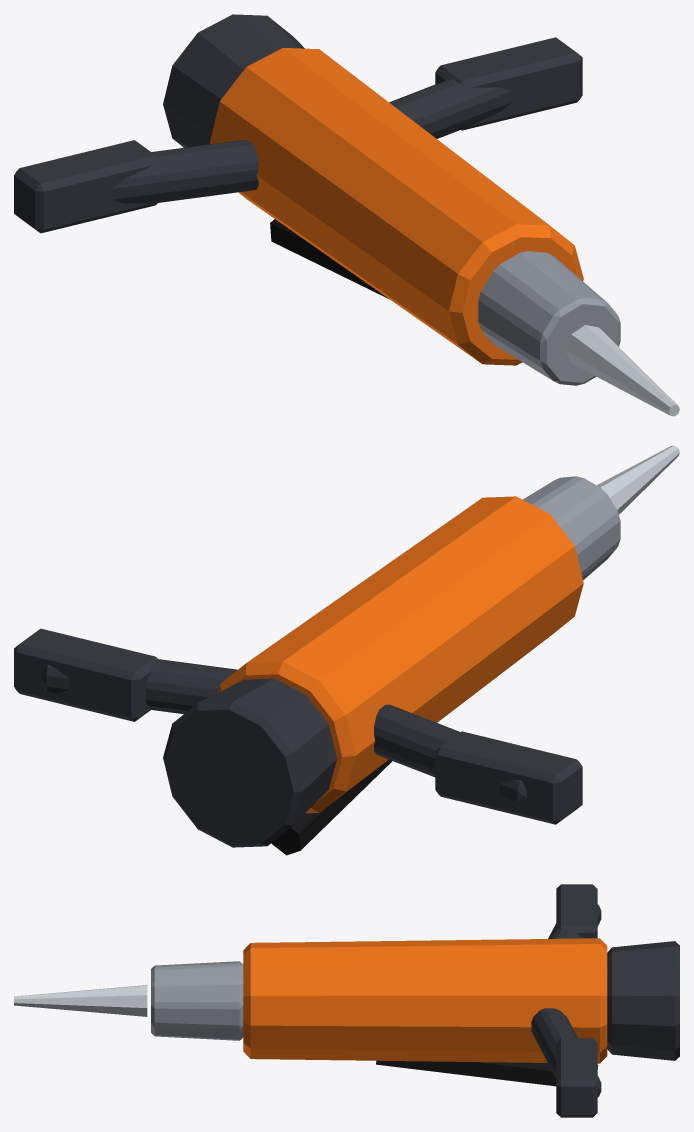
File: Jackhammer.glb
3 views of the same model, one above another, from view 1: azimuth 30°, elevation 25°; view 2: azimuth 150°, elevation 25°; view 3: azimuth 270°, elevation 25° (orthographic). The views are drawn at different scales.
Visible parts, largest first — view 1: Body, Bit; view 2: Body, Bit; view 3: Body, Bit.
Boxes of the visible parts, x1,y1,x2,y2 form: Body: (14, 14, 620, 385); Bit: (565, 325, 679, 416); Body: (14, 476, 620, 855); Bit: (597, 445, 679, 514); Body: (151, 884, 679, 1117); Bit: (14, 985, 147, 1016).
Size of the model in its own units: 0.39 by 0.1338 by 0.549.
